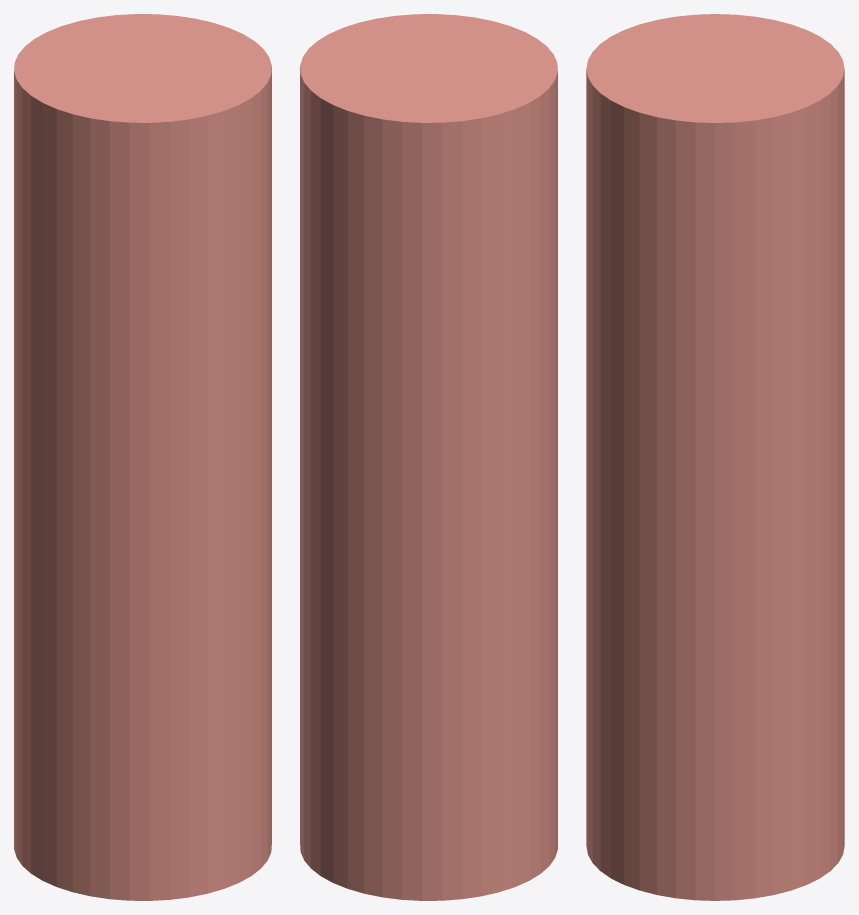
File: gen_aerosol-can_05.glb
3 views of the same model, side by side, from view 1: azimuth 30°, elevation 25°; view 2: azimuth 150°, elevation 25°; view 3: azimuth 270°, elevation 25° (orthographic).
Visible parts, largest first — view 1: z-up-to-y-up; view 2: z-up-to-y-up; view 3: z-up-to-y-up.
Part boxes in pixels (x1,y1,x2,y2): z-up-to-y-up: [14, 14, 271, 900]; z-up-to-y-up: [300, 14, 557, 900]; z-up-to-y-up: [586, 14, 844, 900].
Bounding box in the file's own units: 0.0583 × 0.1939 × 0.0583.
